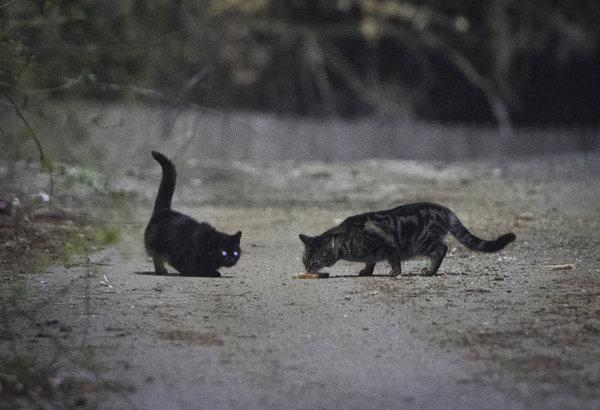house cat: (300, 173, 531, 291), (123, 144, 264, 283)
